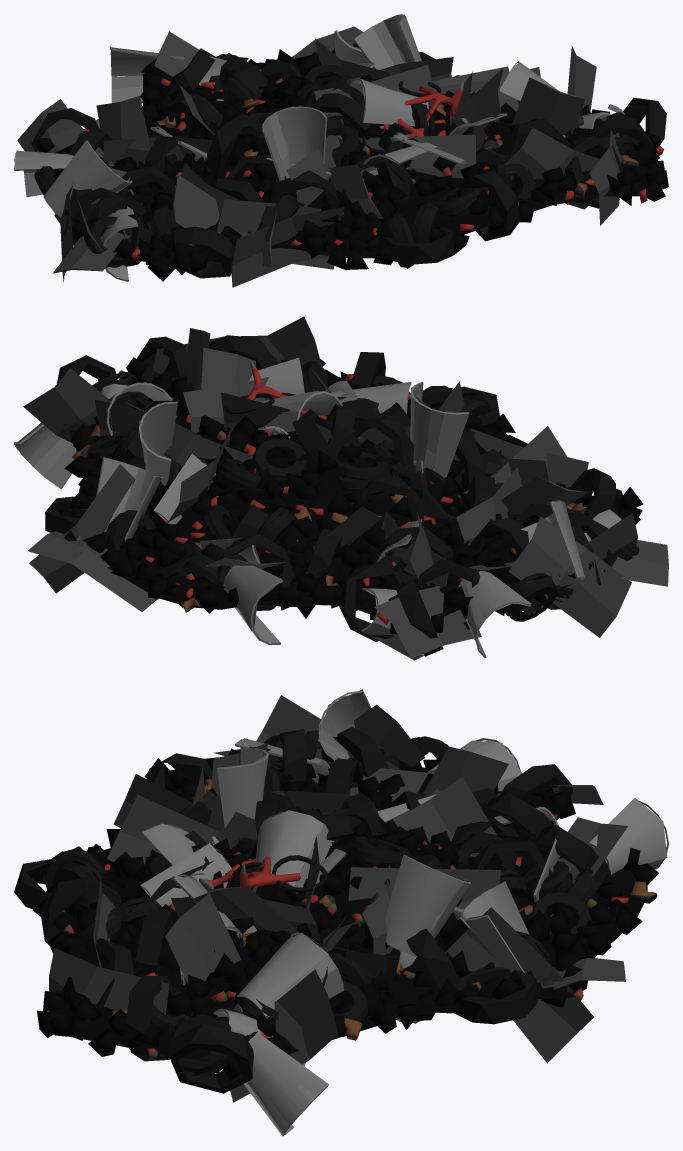
File: trashPile.fbx
The picture shows the model from 3 angles, top to bottom: view 1: azimuth 30°, elevation 25°; view 2: azimuth 150°, elevation 25°; view 3: azimuth 270°, elevation 25°; orthographic projection. The views are drawn at different scales.
Visible parts, largest first — view 1: Plane.002, cycle.002; view 2: Plane.002, cycle.002; view 3: Plane.002, cycle.002.
Part boxes in pixels (x1=…): Plane.002: x1=14, y1=14, x2=668, y2=287; cycle.002: x1=383, y1=82, x2=463, y2=136; Plane.002: x1=14, y1=316, x2=668, y2=660; cycle.002: x1=247, y1=361, x2=326, y2=420; Plane.002: x1=14, y1=689, x2=668, y2=1136; cycle.002: x1=199, y1=856, x2=300, y2=891.
Size of the model in its own units: 1801 by 449 by 1426.
